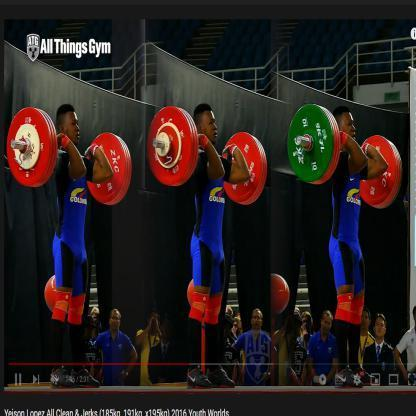barbell: (285, 104, 403, 211), (147, 105, 267, 204), (7, 108, 130, 204)
